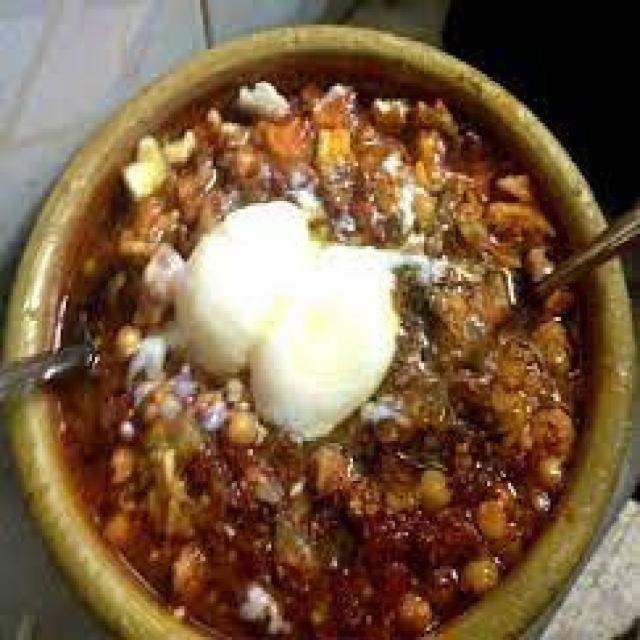Lablabi: (73, 39, 602, 618)
